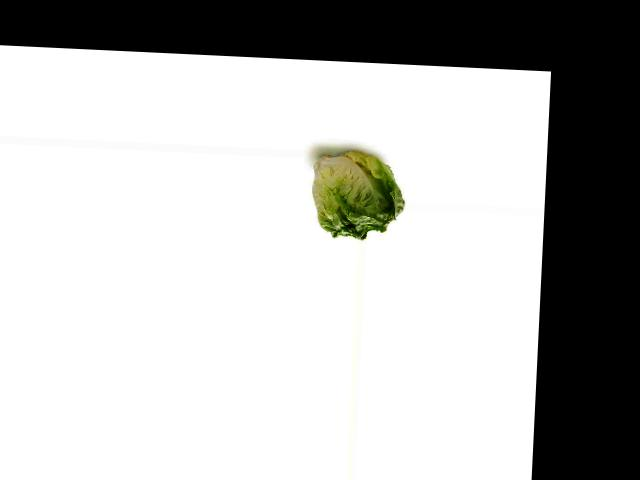lettuce: (303, 150, 411, 245)
